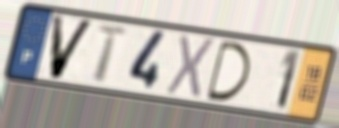1: (275, 47, 303, 114)
4: (125, 27, 165, 96)
D: (204, 38, 252, 104)
T: (92, 23, 129, 86)
V: (48, 13, 98, 82)
X: (163, 32, 218, 102)
